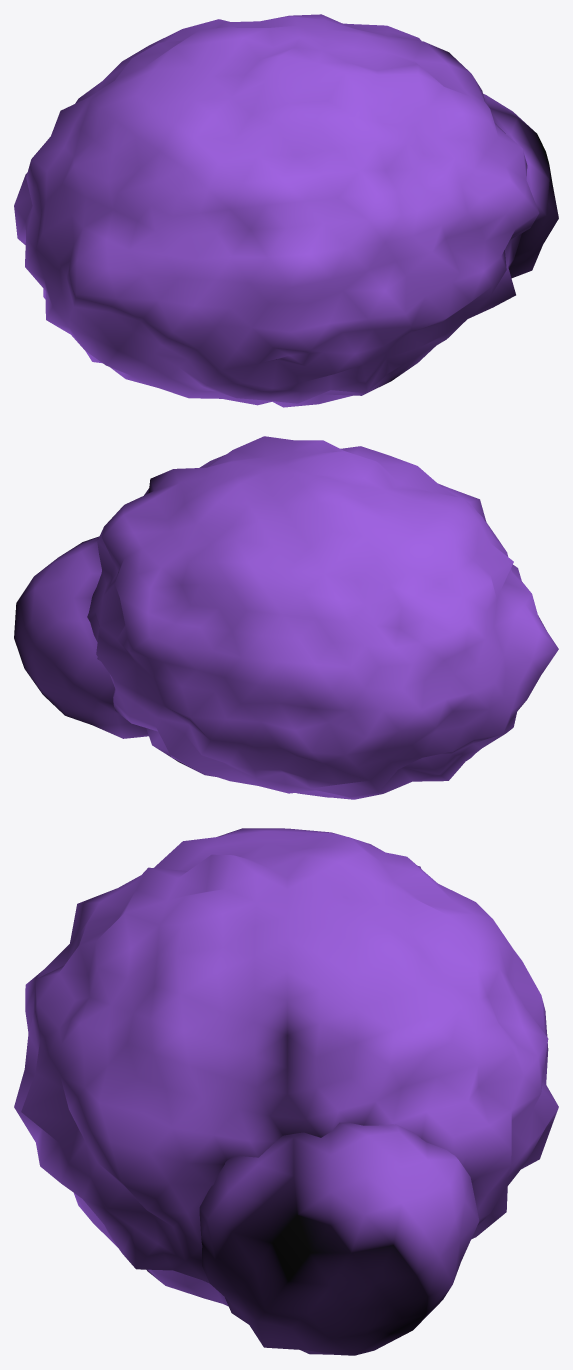
Rendered from coral_brain.glb.
3 views of the same model, one above another, from view 1: azimuth 30°, elevation 25°; view 2: azimuth 150°, elevation 25°; view 3: azimuth 270°, elevation 25° (orthographic). The views are drawn at different scales.
Visible parts, largest first — view 1: coral_brain_mesh; view 2: coral_brain_mesh; view 3: coral_brain_mesh.
Part boxes in pixels (x1,y1,x2,y2): coral_brain_mesh: (14, 14, 558, 407); coral_brain_mesh: (14, 436, 558, 799); coral_brain_mesh: (14, 828, 558, 1355).
Bounding box in the file's own units: 1.64 × 1.04 × 1.26.
